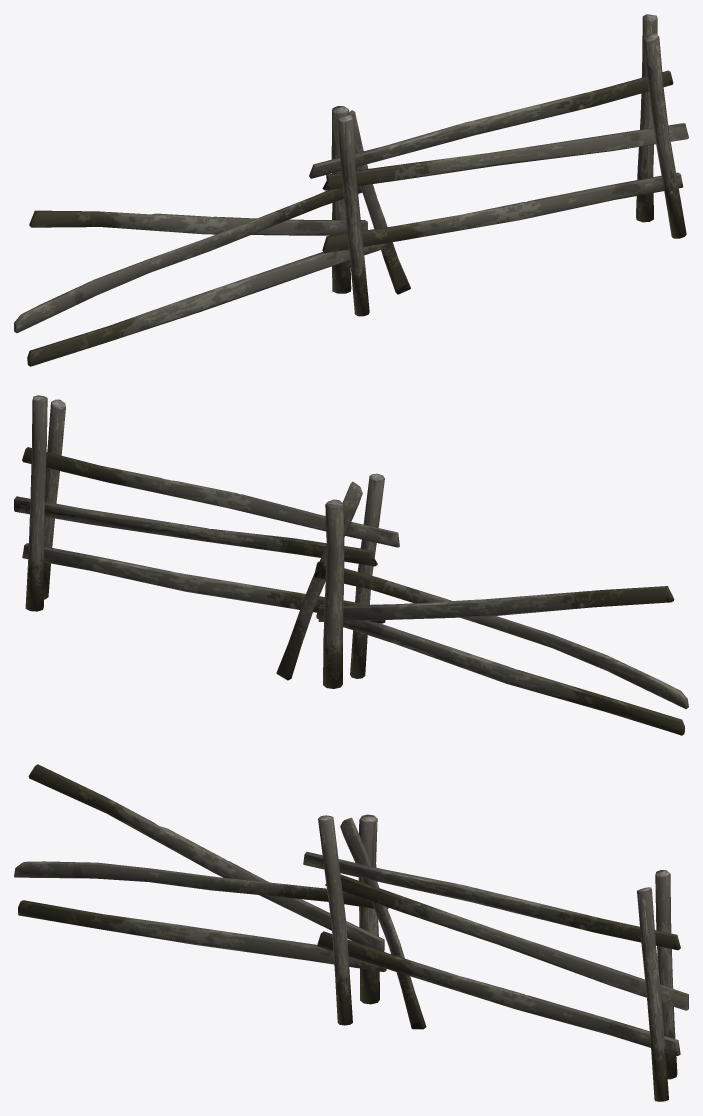
Rendered from Stage_Obj012.fbx.
3 views of the same model, one above another, from view 1: azimuth 30°, elevation 25°; view 2: azimuth 150°, elevation 25°; view 3: azimuth 330°, elevation 25° (orthographic).
Parts seen in each view (by area): view 1: SM_SampleGame_Fence004; view 2: SM_SampleGame_Fence004; view 3: SM_SampleGame_Fence004.
Boxes of the visible parts, x1,y1,x2,y2 form: SM_SampleGame_Fence004: (14, 14, 688, 366); SM_SampleGame_Fence004: (14, 395, 688, 735); SM_SampleGame_Fence004: (14, 764, 688, 1101).
Bounding box in the file's own units: 284 × 87.93 × 23.93.
Materials: 1 (1 with a texture image).
